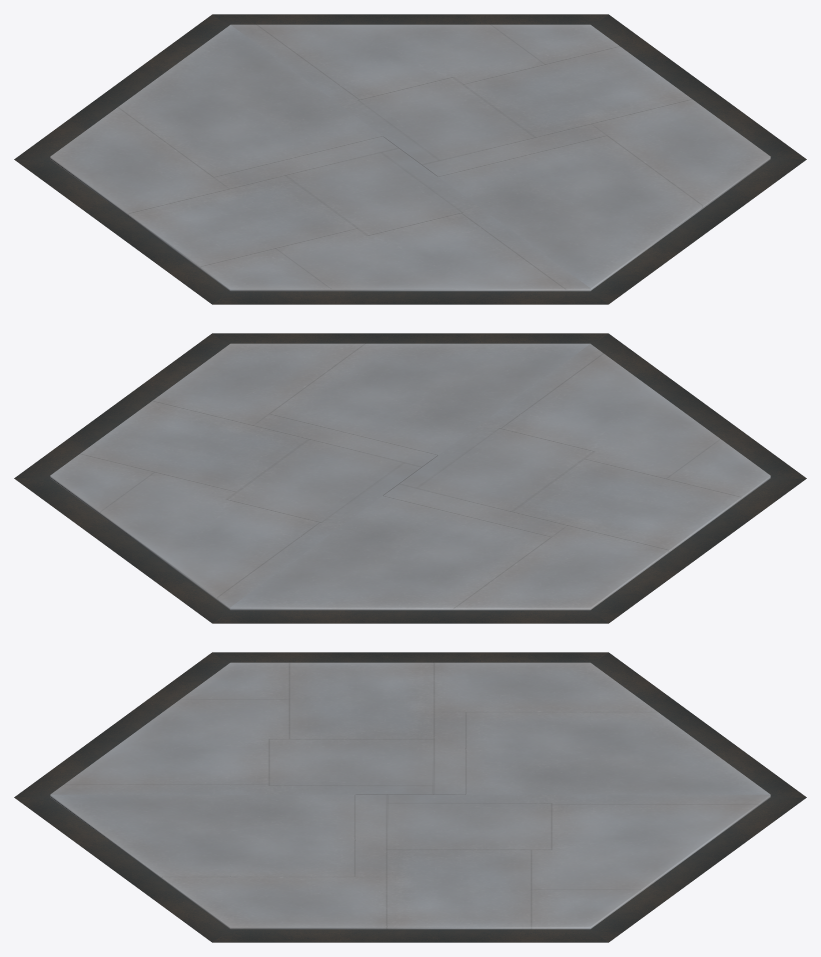
The model's file is SG_floor01.fbx.
The picture shows the model from 3 angles, top to bottom: view 1: azimuth 30°, elevation 25°; view 2: azimuth 150°, elevation 25°; view 3: azimuth 270°, elevation 25°; orthographic projection.
Visible parts, largest first — view 1: SGfloor01; view 2: SGfloor01; view 3: SGfloor01.
Part boxes in pixels (x1,y1,x2,y2): SGfloor01: (14, 14, 806, 304); SGfloor01: (14, 333, 806, 623); SGfloor01: (14, 652, 806, 942).
Size of the model in its own units: 200 by 0.959 by 231.
